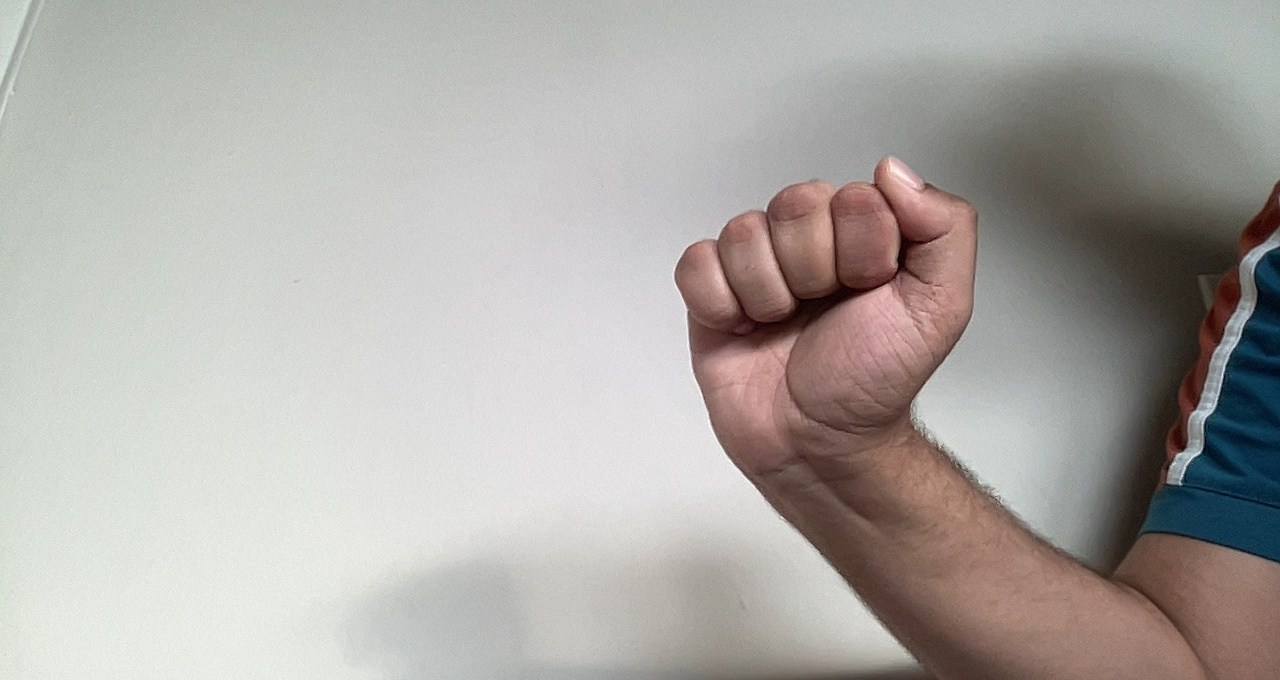closedfist: (665, 146, 990, 480)
